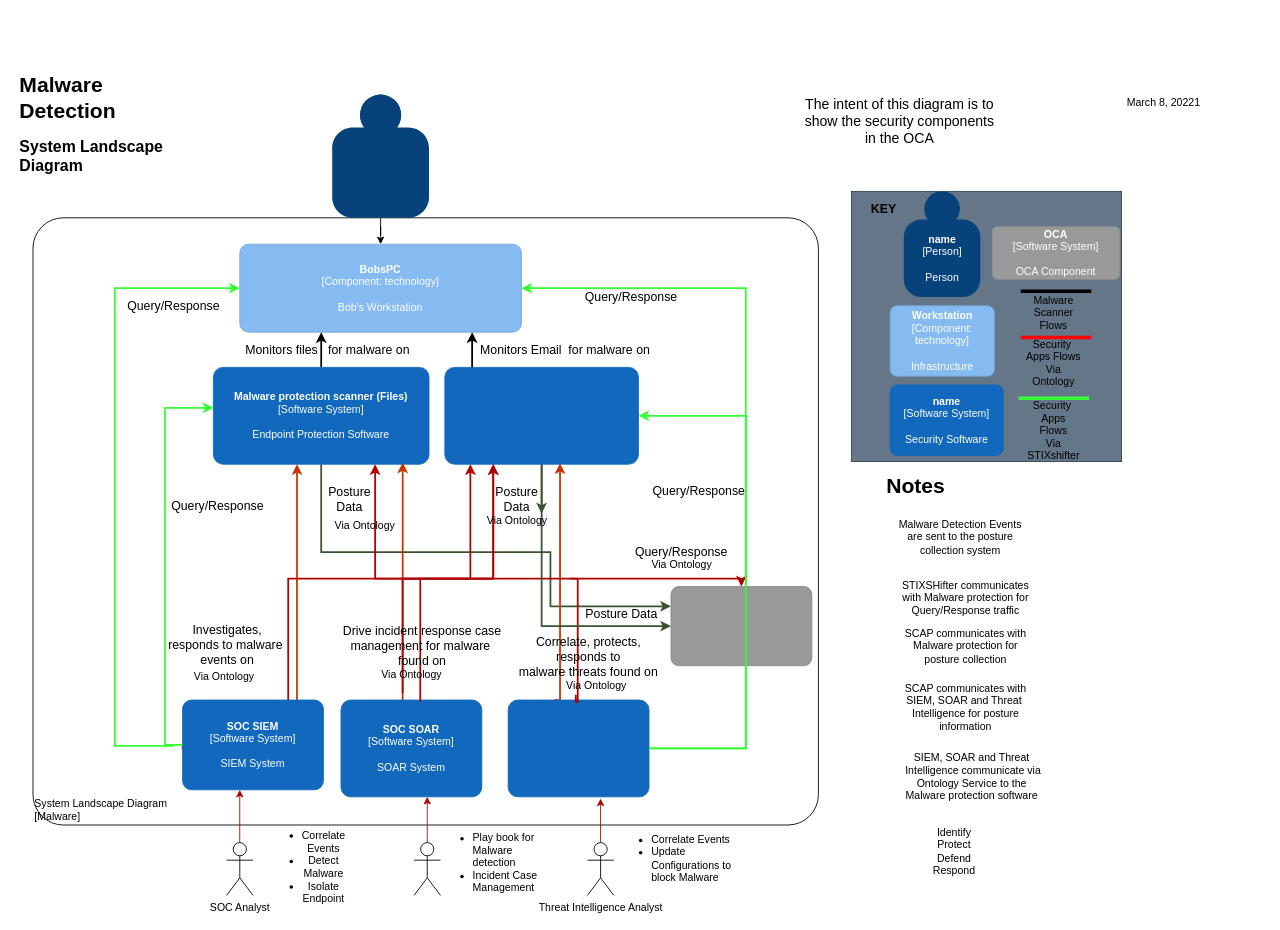
Image size: 1280x930. Some labels were removed from this diagram. Each missing label, with the centre of its shape:
"Bob [Person] End User" goes at [380,155].
"Incident Response Analyst" goes at [426,868].
"Malware protection scanner (Email) [Software System] Email Protection Software" goes at [541,415].
"Posture Attributes [Software System] Posture Collection System" goes at [741,626].
"Threat Intelligence [Software System] Threat Intelligence System" goes at [578,748].
